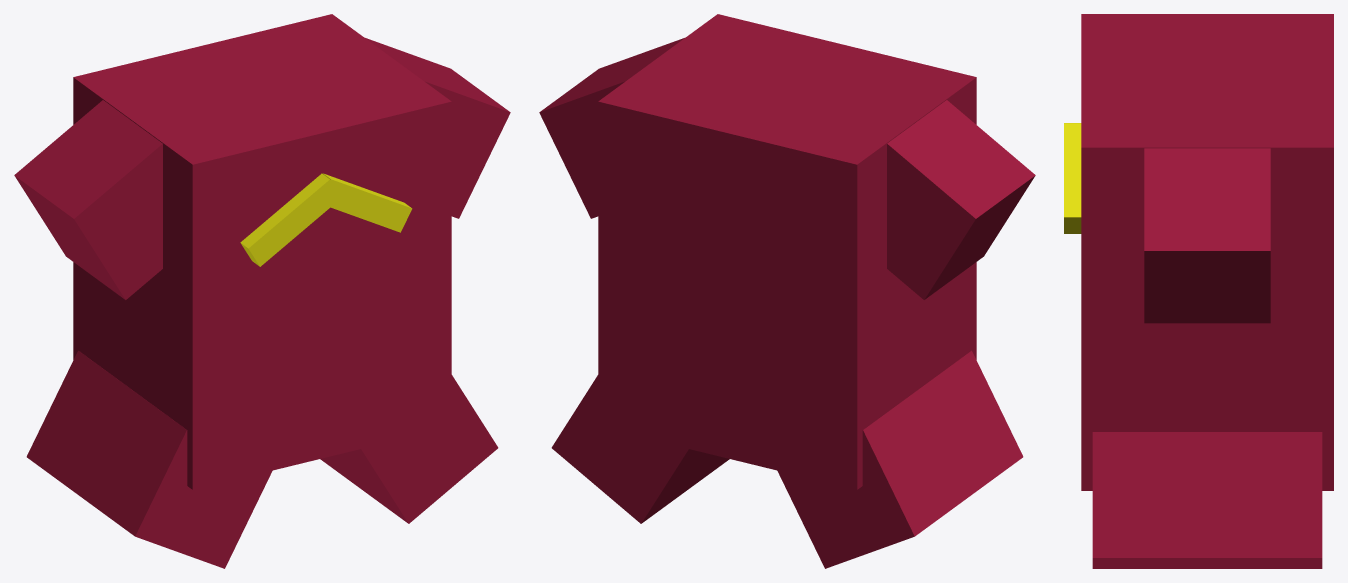
Rendered from DaemonBody.fbx.
3 renders of one model, left to right at view 1: azimuth 30°, elevation 25°; view 2: azimuth 150°, elevation 25°; view 3: azimuth 270°, elevation 25°, orthographic. The views are drawn at different scales.
Visible parts, largest first — view 1: Cube.001, Cube.007; view 2: Cube.001; view 3: Cube.001, Cube.007.
Part boxes in pixels (x1,y1,x2,y2): Cube.001: (14, 14, 510, 568); Cube.007: (240, 173, 412, 266); Cube.001: (539, 14, 1035, 568); Cube.001: (1081, 14, 1333, 568); Cube.007: (1064, 123, 1081, 233).
Size of the model in its own units: 185 by 169 by 94.
